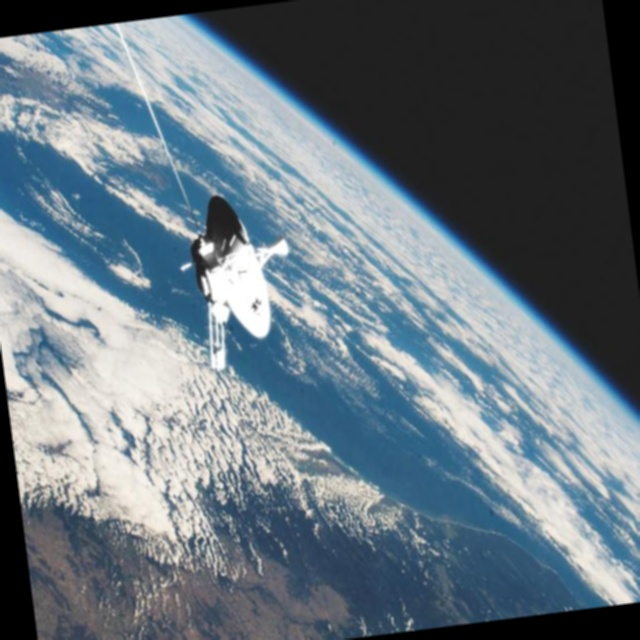satellite: (156, 139, 315, 397)
